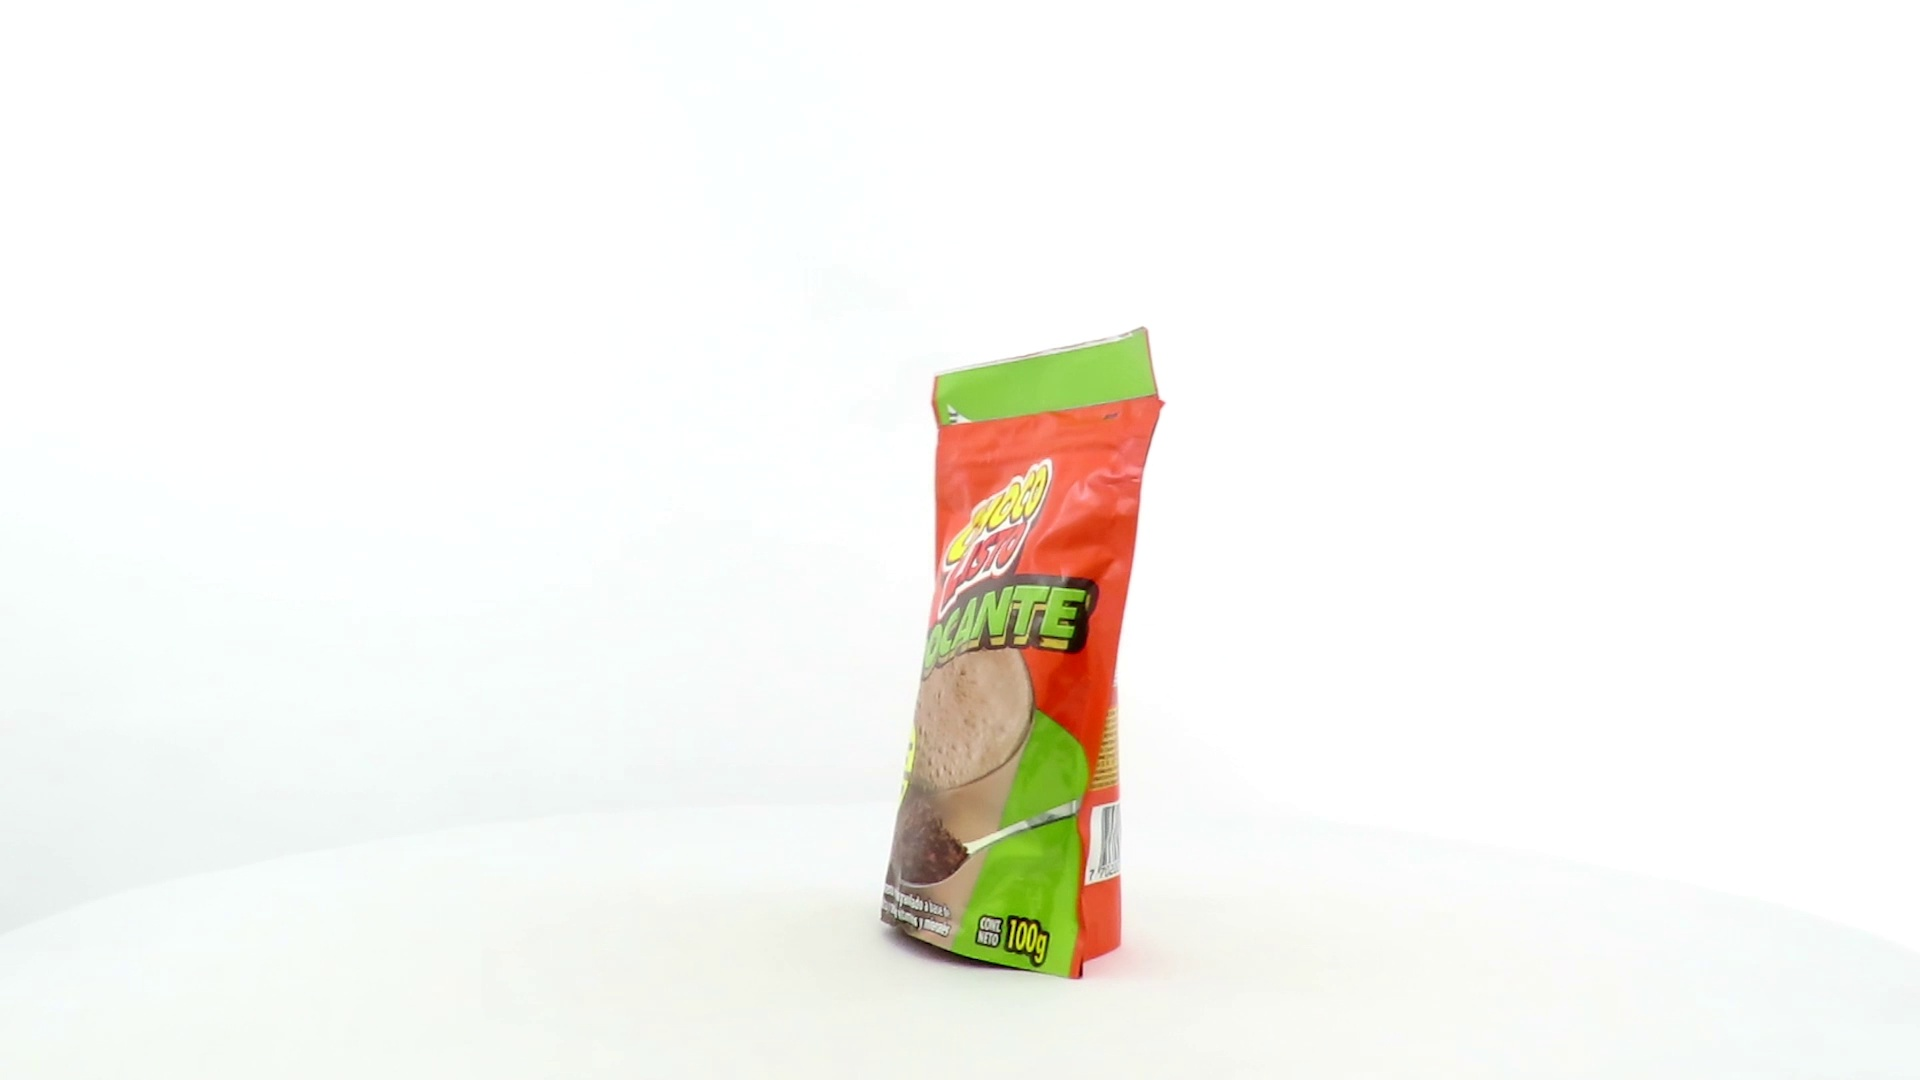COL0170102DYP10000: (876, 320, 1171, 986)
